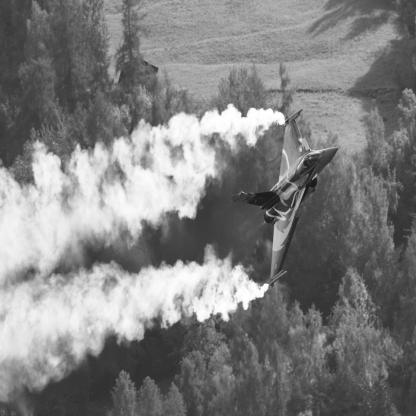Rafale: (232, 109, 340, 290)
